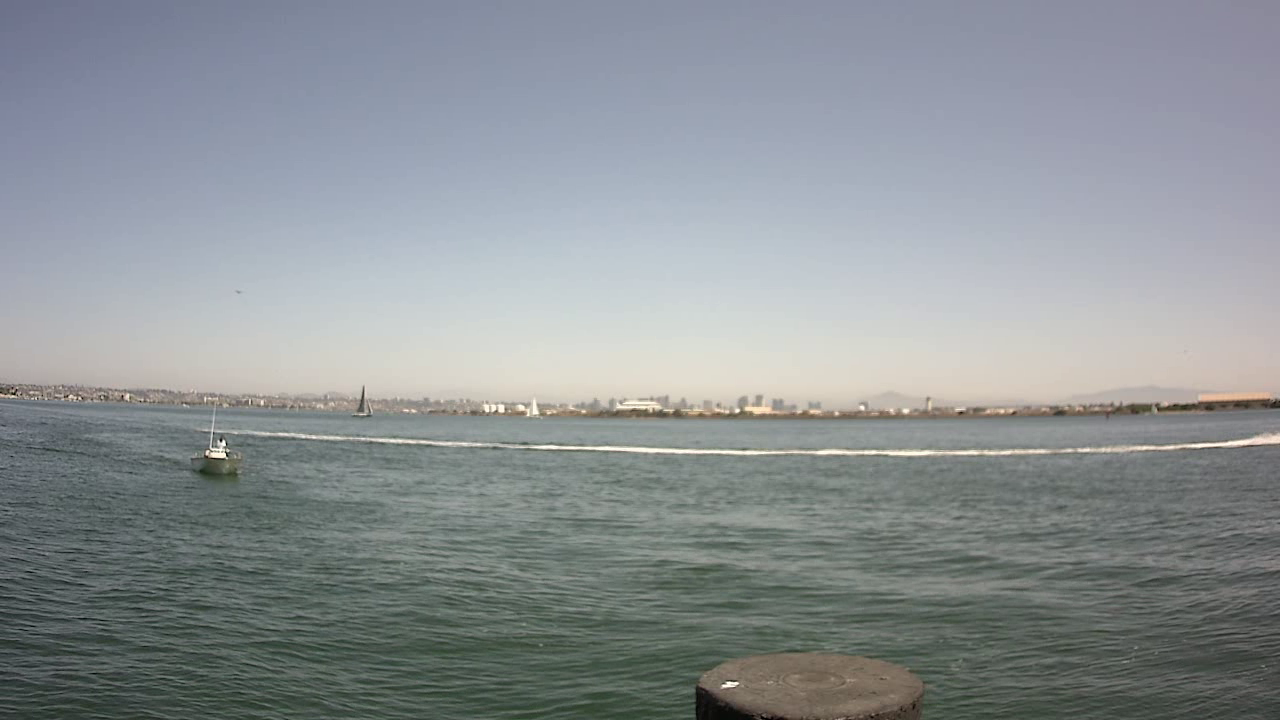target: (184, 426, 248, 482)
